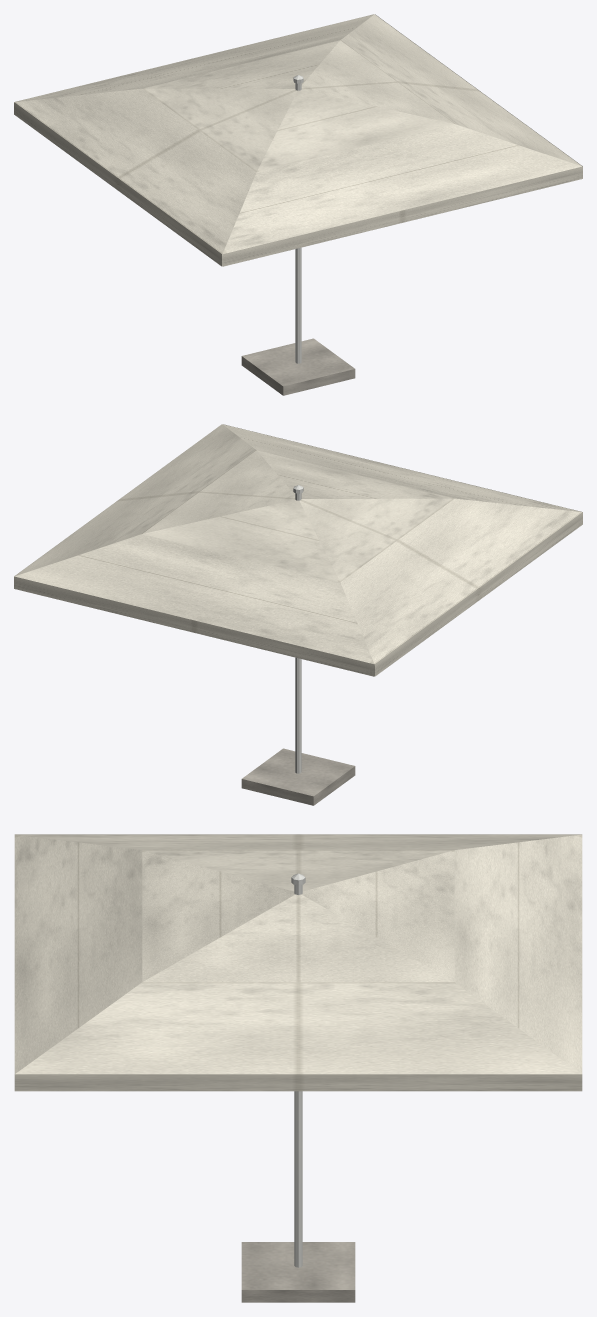
File: SM_Molo_Ombrellone4x4.fbx
3 views of the same model, one above another, from view 1: azimuth 30°, elevation 25°; view 2: azimuth 150°, elevation 25°; view 3: azimuth 270°, elevation 25° (orthographic). The views are drawn at different scales.
Visible parts, largest first — view 1: SM_Molo_Ombrellone4x4; view 2: SM_Molo_Ombrellone4x4; view 3: SM_Molo_Ombrellone4x4.
Part boxes in pixels (box(x1,y1,x2,y2)): SM_Molo_Ombrellone4x4: box(14, 14, 582, 395); SM_Molo_Ombrellone4x4: box(14, 424, 582, 805); SM_Molo_Ombrellone4x4: box(14, 834, 582, 1302).
Size of what is drawn, in the model's own units: 401 by 401 by 315.
1 material, 1 textured.
